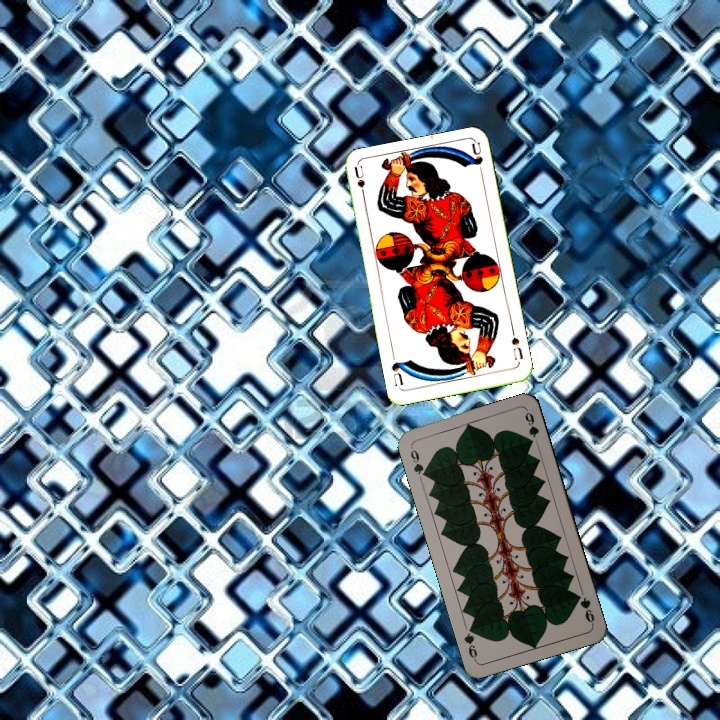G9: (572, 590, 597, 627), (406, 442, 430, 480)
SU: (350, 163, 368, 204), (508, 326, 526, 363)
